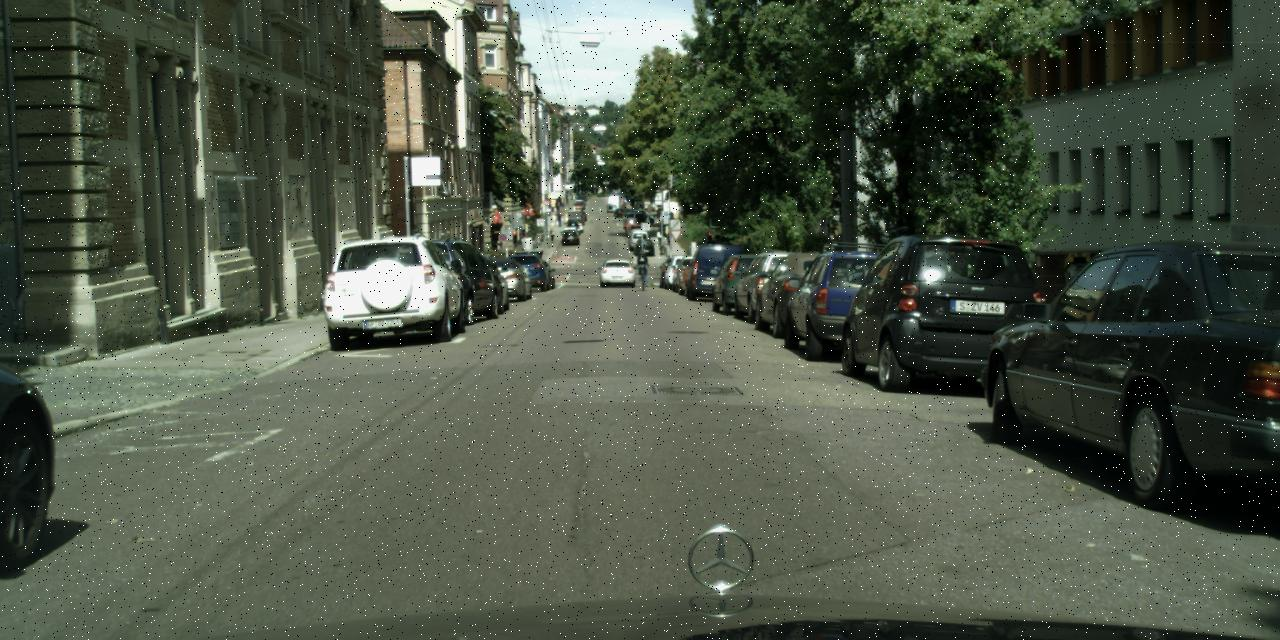ped: (632, 242, 648, 282)
